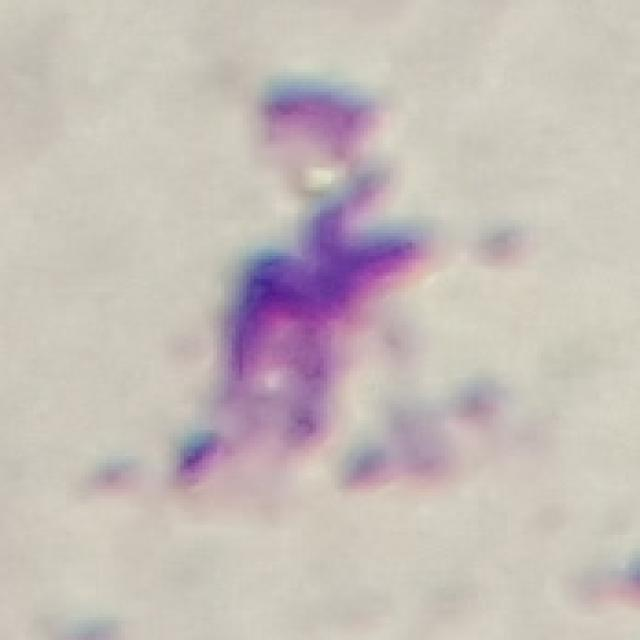non-sperm: (156, 74, 462, 511)
